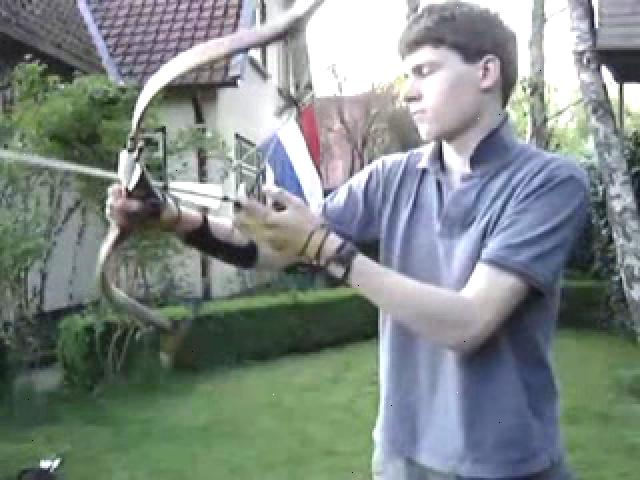P: (112, 4, 591, 473)
